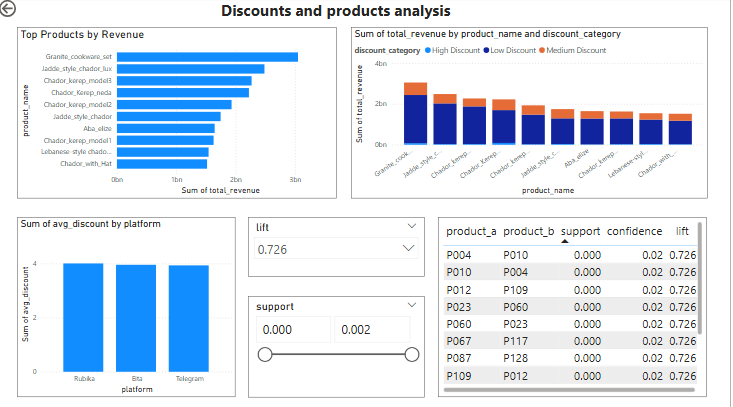

What the dashboard file says about the page in this screenshot:
{"tool":"powerbi","page":{"name":"Page 3","canvas":[1280,720],"ordinal":2},"visuals":[{"type":"textbox","box":[359.6,0,466.3,51.8],"z":0},{"type":"clusteredBarChart","title":"Top Products by Revenue","fields":{"Category":["public product_performance.product_name"],"Y":["Sum(public product_performance.total_revenue)"]},"box":[36.6,51.8,557.7,298.7],"z":1000},{"type":"columnChart","fields":{"Category":["public discount_analysis.product_name"],"Y":["Sum(public discount_analysis.total_revenue)"],"Series":["public discount_analysis.discount_category"]},"box":[618.7,51.8,621.7,298.7],"z":2000},{"type":"columnChart","fields":{"Category":["public discount_by_platform.platform"],"Y":["Sum(public discount_by_platform.avg_discount)"]},"box":[36.6,384,381,313.9],"z":3000},{"type":"columnChart","fields":{"Category":["public discount_vs_sales.discount_status"],"Y":["Sum(public discount_vs_sales.total_revenue)"]},"box":[771,411.4,469.3,216.4],"z":4000},{"type":"tableEx","fields":{"Values":["public scl_analysis.product_a","public scl_analysis.product_b","public scl_analysis.support","public scl_analysis.confidence","public scl_analysis.lift"]},"box":[771,384,469.3,313.9],"z":5000},{"type":"actionButton","box":[0,0,100,40],"z":6000},{"type":"slicer","fields":{"Values":["public scl_analysis.lift"]},"box":[438.9,384,307.8,103.6],"z":7000},{"type":"slicer","fields":{"Values":["public scl_analysis.support"]},"box":[438.9,521.1,307.8,176.8],"z":8000}]}

Visuals, with their boxes in screenshot pixels (x1, y1, x2, y2), scaled from the page's 1280x720 canvas onto the 733x407 screenshot:
textbox: locate(206, 0, 473, 29)
"Top Products by Revenue" clusteredBarChart: locate(21, 29, 340, 198)
columnChart - public discount_analysis.product_name x Sum(public discount_analysis.total_revenue): locate(354, 29, 710, 198)
columnChart - public discount_by_platform.platform x Sum(public discount_by_platform.avg_discount): locate(21, 217, 239, 395)
columnChart - public discount_vs_sales.discount_status x Sum(public discount_vs_sales.total_revenue): locate(442, 233, 710, 355)
tableEx - public scl_analysis.product_a x public scl_analysis.product_b: locate(442, 217, 710, 395)
actionButton: locate(0, 0, 57, 23)
slicer - public scl_analysis.lift: locate(251, 217, 428, 276)
slicer - public scl_analysis.support: locate(251, 295, 428, 395)
